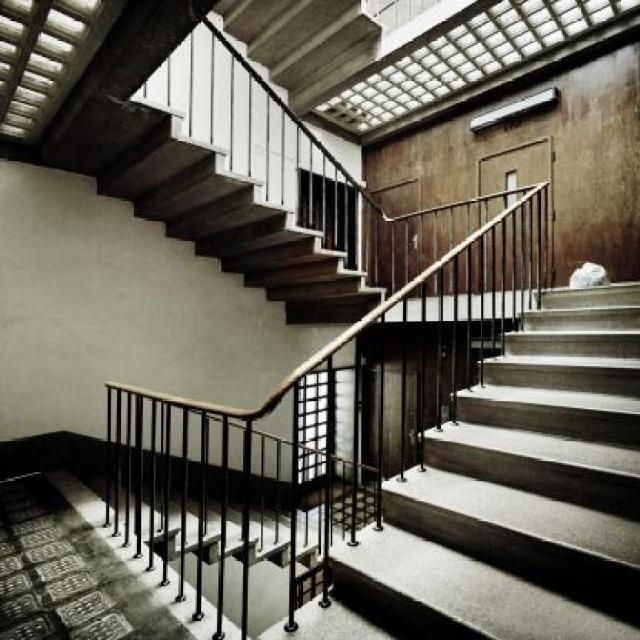stair: (2, 4, 420, 336)
